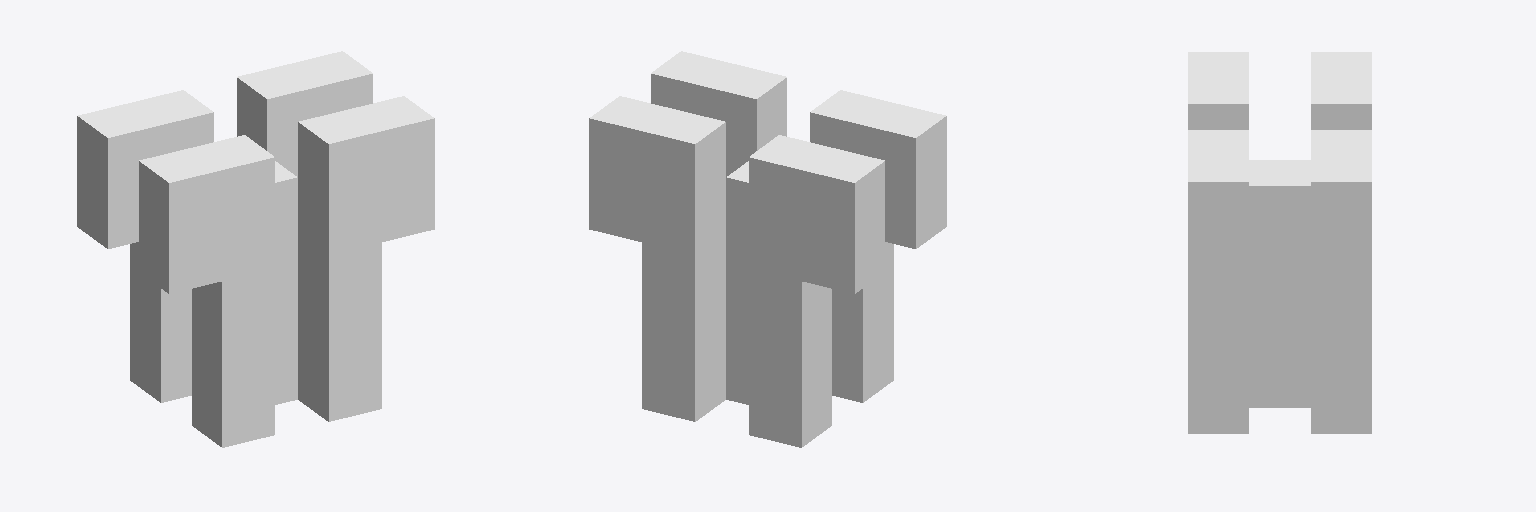
File: kabu_1.obj
The picture shows the model from 3 angles: view 1: azimuth 30°, elevation 25°; view 2: azimuth 150°, elevation 25°; view 3: azimuth 270°, elevation 25°; orthographic projection.
Parts seen in each view (by area): view 1: object 1; view 2: object 1; view 3: object 1.
Boxes of the visible parts, x1=… form: object 1: x1=77, y1=51, x2=434, y2=447; object 1: x1=589, y1=51, x2=946, y2=447; object 1: x1=1188, y1=52, x2=1371, y2=433.
Bounding box in the file's own units: 0.5 × 0.5 × 0.3.